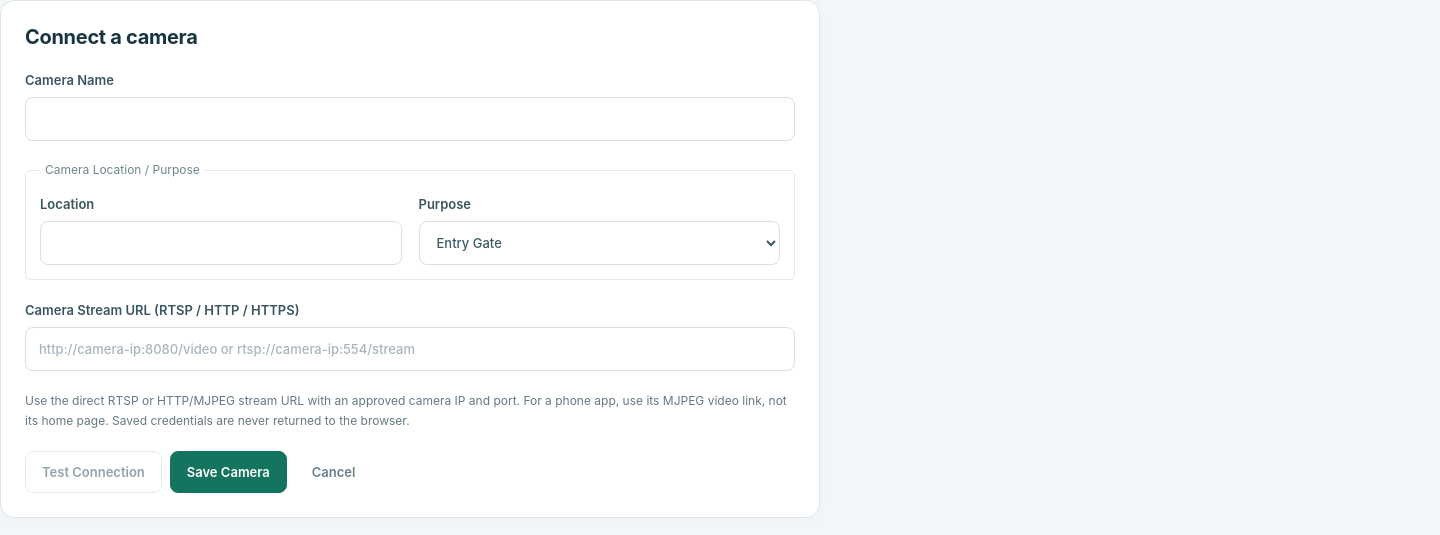
Test: an HTTP 200 camera test with connected false is a failure, never success
This screenshot has width=1440, height=535.
In the password field labelled "Camera Stream URL (RTSP / HTTP / HTTPS)": (410, 349) [25,327,795,371], type "rtsp://192.168.0.3:554/stream"
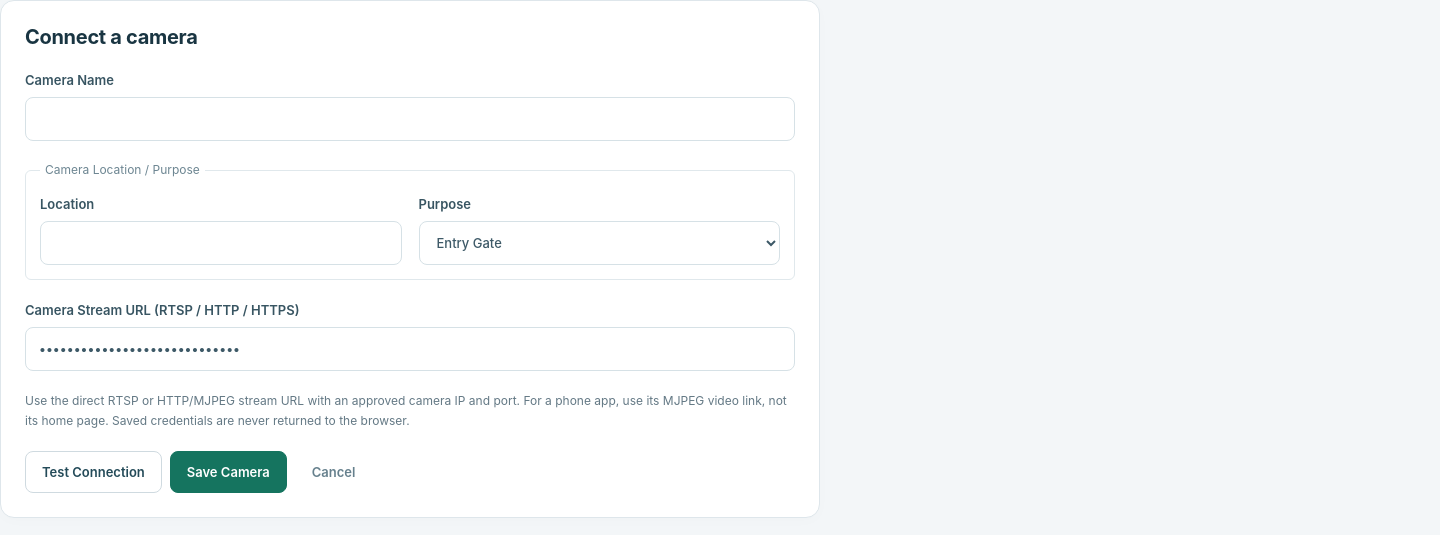
Click the button "Test Connection": (93, 472) [25,451,162,493]
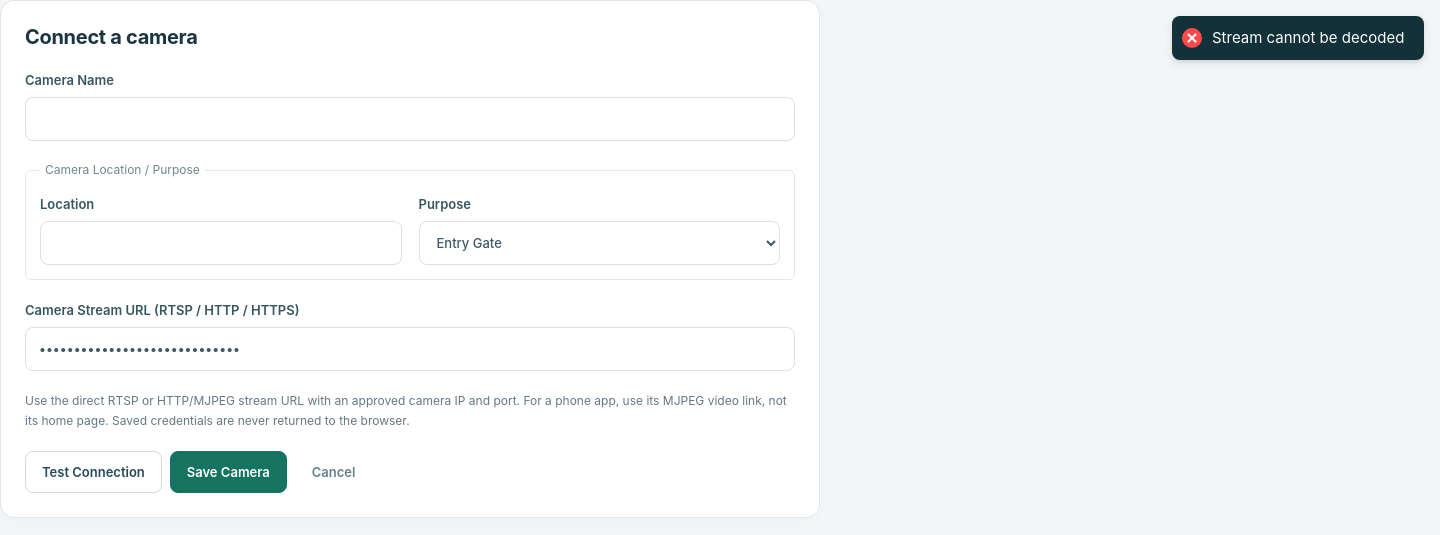
Check: the text "Stream cannot be decoded" is shown once, box [1212,28,1404,48]
